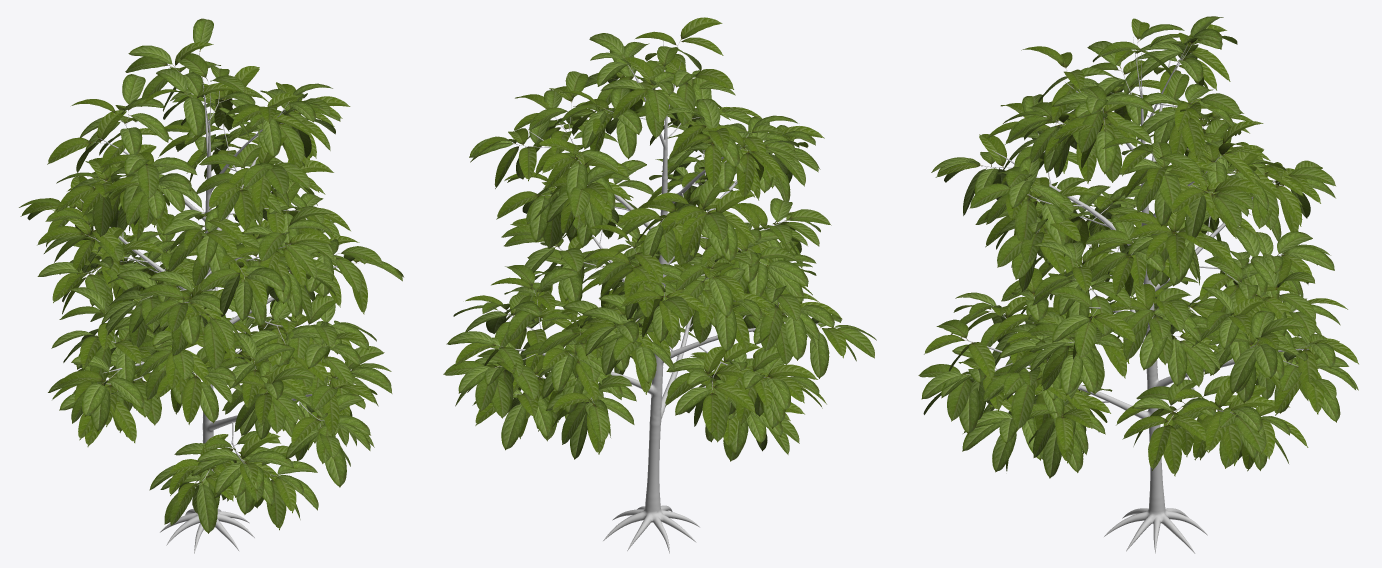
The model's file is SM_StelechocarpusBurahol_Y_LOD0 1.fbx.
The picture shows the model from 3 angles, left to right: view 1: azimuth 30°, elevation 25°; view 2: azimuth 150°, elevation 25°; view 3: azimuth 270°, elevation 25°; orthographic projection. The views are drawn at different scales.
Parts seen in each view (by area): view 1: MI_LOD0_001, MI_LOD0_002, MI_LOD0_003, MI_LOD0; view 2: MI_LOD0_001, MI_LOD0_002, MI_LOD0_003, MI_LOD0; view 3: MI_LOD0_002, MI_LOD0_001, MI_LOD0_003, MI_LOD0.
Part boxes in pixels (<box>): MI_LOD0_001: <box>27,18,402,533</box>; MI_LOD0_002: <box>20,42,377,530</box>; MI_LOD0_003: <box>19,53,403,526</box>; MI_LOD0: <box>80,53,359,553</box>; MI_LOD0_001: <box>446,33,876,459</box>; MI_LOD0_002: <box>455,17,846,454</box>; MI_LOD0_003: <box>443,46,874,461</box>; MI_LOD0: <box>495,41,824,553</box>; MI_LOD0_002: <box>924,18,1358,476</box>; MI_LOD0_001: <box>921,16,1355,478</box>; MI_LOD0_003: <box>918,34,1358,468</box>; MI_LOD0: <box>966,37,1309,553</box>.
Size of the model in its own units: 173 by 237 by 190.
